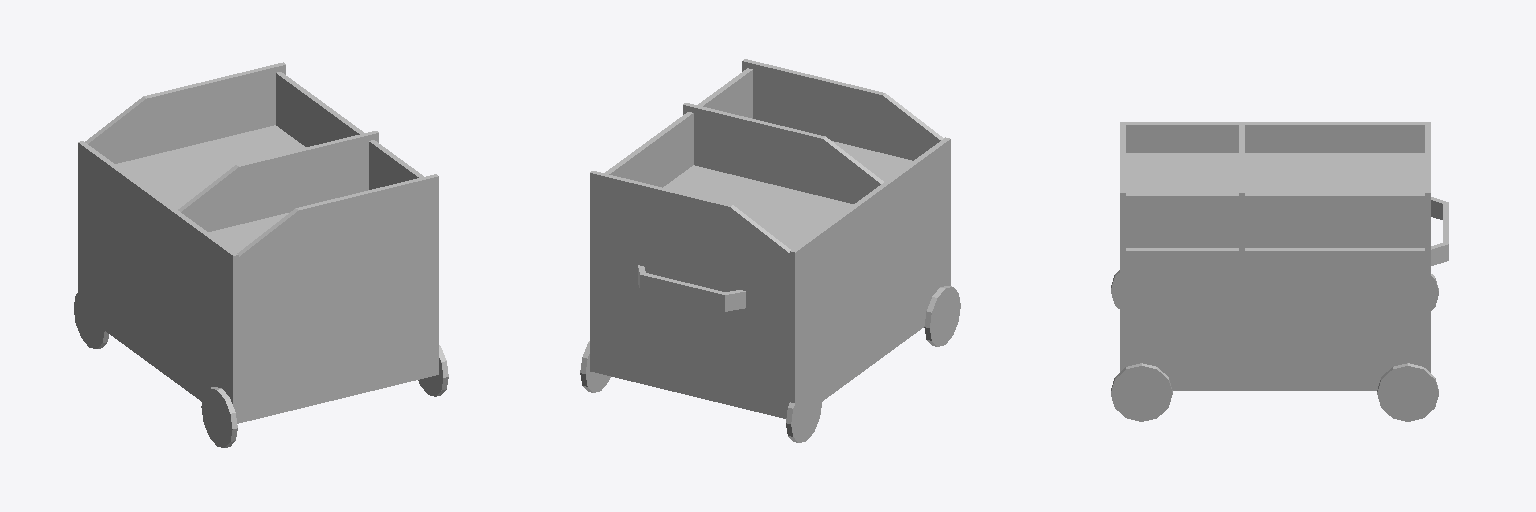
File: cart_2size.obj
The picture shows the model from 3 angles: view 1: azimuth 30°, elevation 25°; view 2: azimuth 150°, elevation 25°; view 3: azimuth 270°, elevation 25°; orthographic projection.
Visible parts, largest first — view 1: Cart2Size; view 2: Cart2Size; view 3: Cart2Size.
Boxes of the visible parts, box(x1,y1,x2,y2) form: Cart2Size: box(74, 62, 448, 447); Cart2Size: box(580, 59, 960, 442); Cart2Size: box(1111, 122, 1448, 421).
Size of the model in its own units: 0.4013 by 0.4017 by 0.5442.